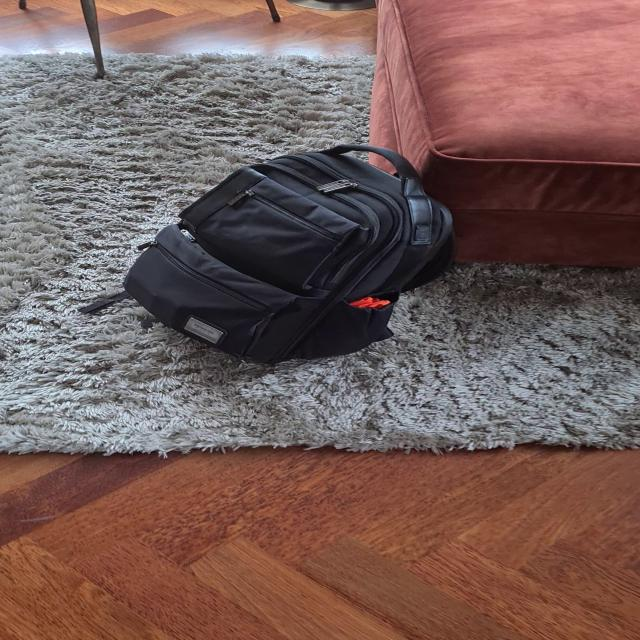backpack: (113, 133, 469, 367)
